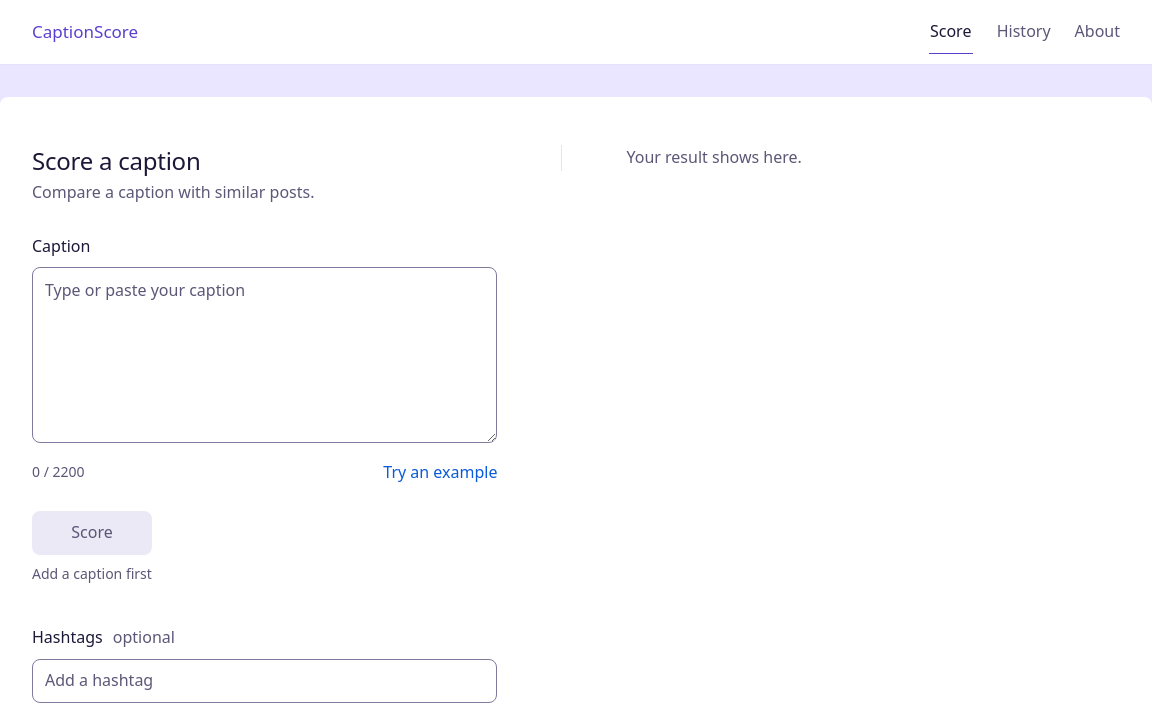
Scenario: Score page › "Try an example" fills the form and scores it in one click
Expected: the text "Your result shows here." is shown, [626,146,802,168]
Click the button "Try an example".
click(440, 472)  # box [383,450,498,494]
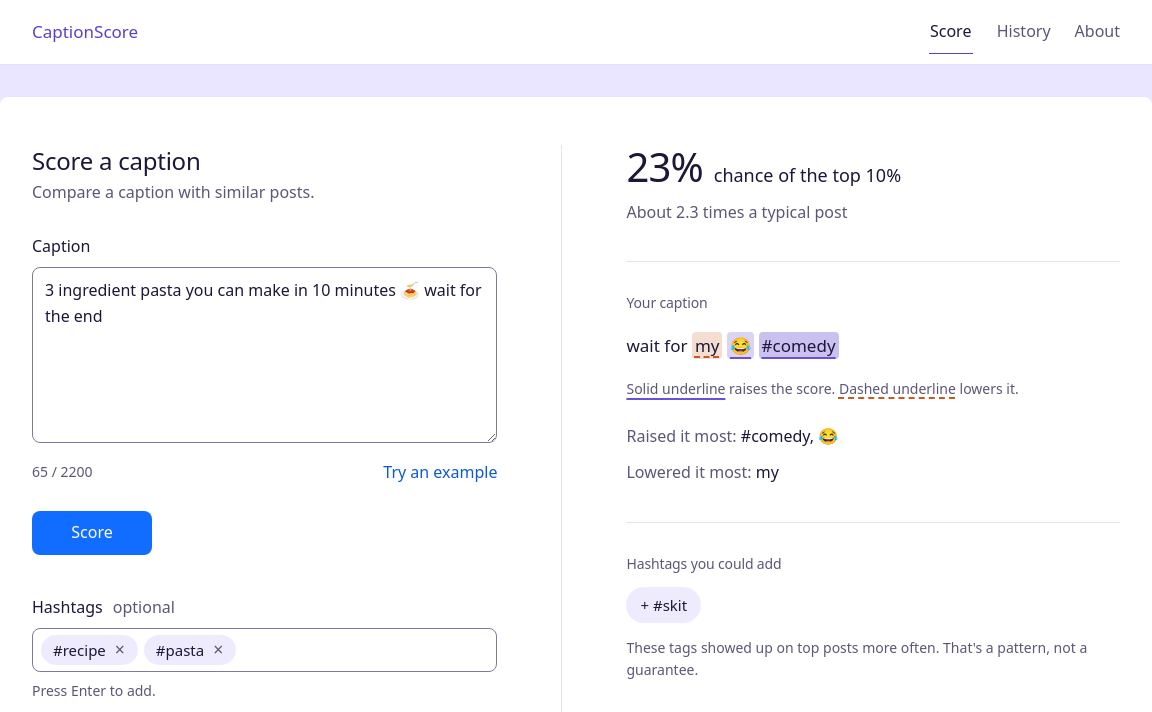
Expected: the text box labelled "Caption" holds "3 ingredient pasta you can make in 10 minutes 🍝 wait for the end", [32,267,498,443]
